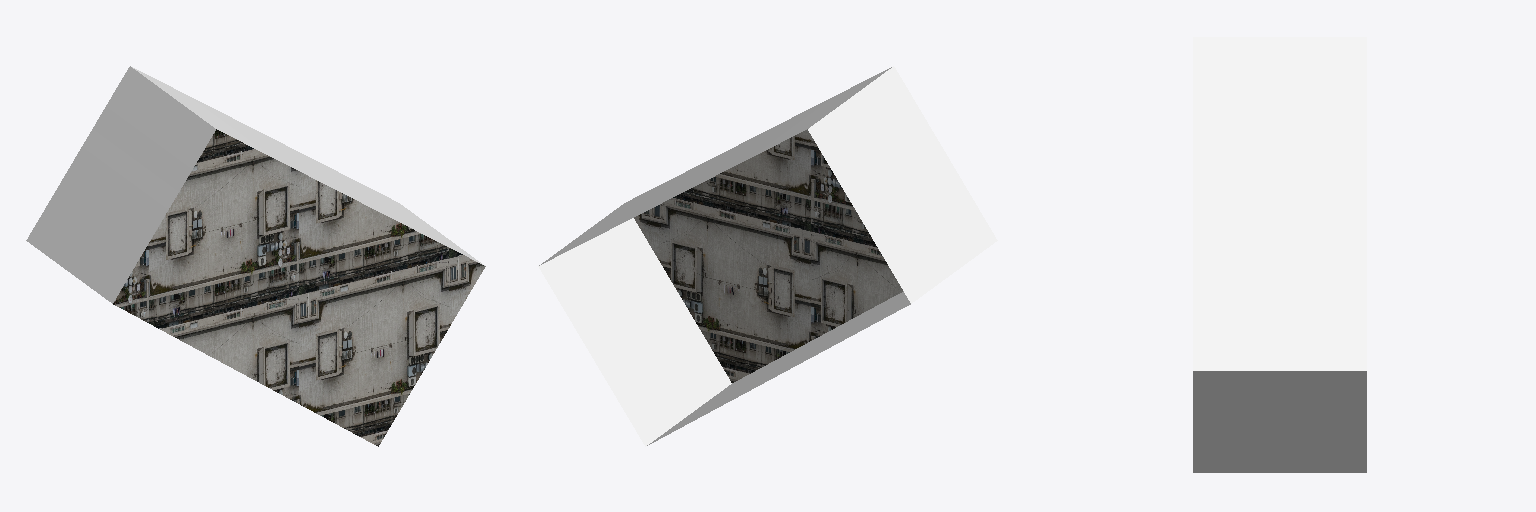
3 renders of one model, left to right at view 1: azimuth 30°, elevation 25°; view 2: azimuth 150°, elevation 25°; view 3: azimuth 270°, elevation 25°, orthographic.
Visible parts, largest first — view 1: Building; view 2: Building; view 3: Building.
Boxes of the visible parts, x1,y1,x2,y2 form: Building: [26, 66, 485, 446]; Building: [538, 66, 997, 446]; Building: [1193, 37, 1366, 472].
Bounding box in the file's own units: 37.29 × 34.12 × 15.
2 materials, 1 textured.